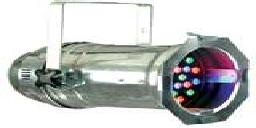LED: (171, 44, 240, 116)
